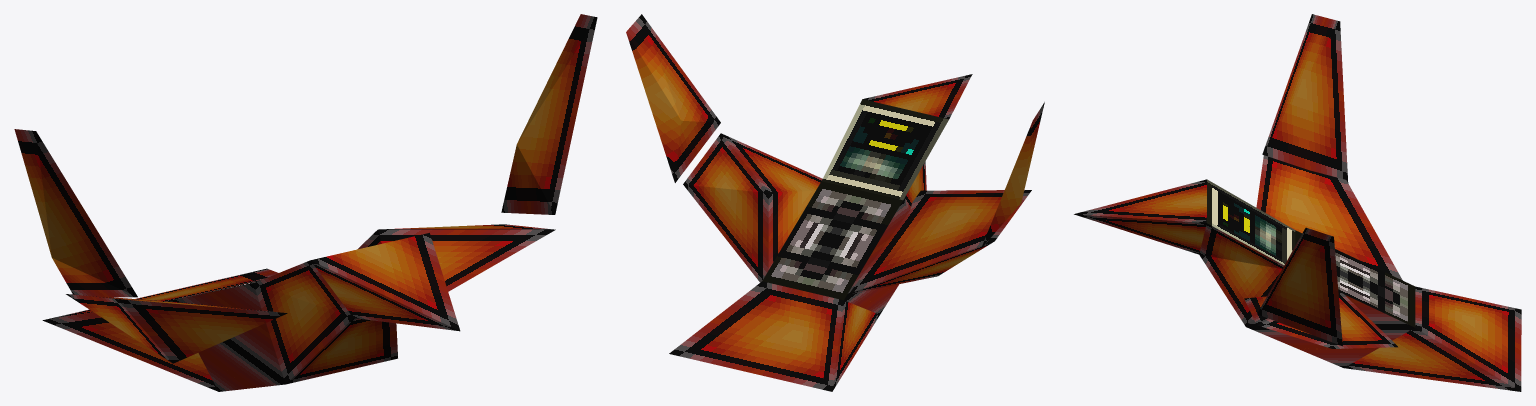
File: Firebird.dae
The picture shows the model from 3 angles, left to right: view 1: azimuth 30°, elevation 25°; view 2: azimuth 150°, elevation 25°; view 3: azimuth 270°, elevation 25°; orthographic projection. The views are drawn at different scales.
Visible parts, largest first — view 1: red, redL2, redR2, redR1, redL1; view 2: red, redL1, tank, redR1, cockpit, redL2, redR2; view 3: red, redR2, redR1, redL2, cockpit, tank, redL1.
Boxes of the visible parts, bbox=[...] form: red: bbox=[42, 233, 460, 391]; redL2: bbox=[501, 14, 597, 214]; redR2: bbox=[14, 129, 137, 297]; redR1: bbox=[66, 294, 287, 363]; redL1: bbox=[357, 224, 555, 291]; red: bbox=[669, 74, 972, 391]; redL1: bbox=[683, 133, 822, 282]; tank: bbox=[762, 181, 902, 300]; redR1: bbox=[849, 190, 1031, 293]; cockpit: bbox=[822, 99, 948, 200]; redL2: bbox=[626, 14, 720, 182]; redR2: bbox=[981, 102, 1044, 248]; red: bbox=[1074, 179, 1521, 391]; redR2: bbox=[1262, 14, 1348, 182]; redR1: bbox=[1256, 155, 1402, 280]; redL2: bbox=[1257, 227, 1342, 346]; cockpit: bbox=[1206, 179, 1295, 265]; tank: bbox=[1295, 230, 1415, 327]; redL1: bbox=[1244, 290, 1397, 348].
Bounding box in the file's own units: 160 × 90.65 × 151.
